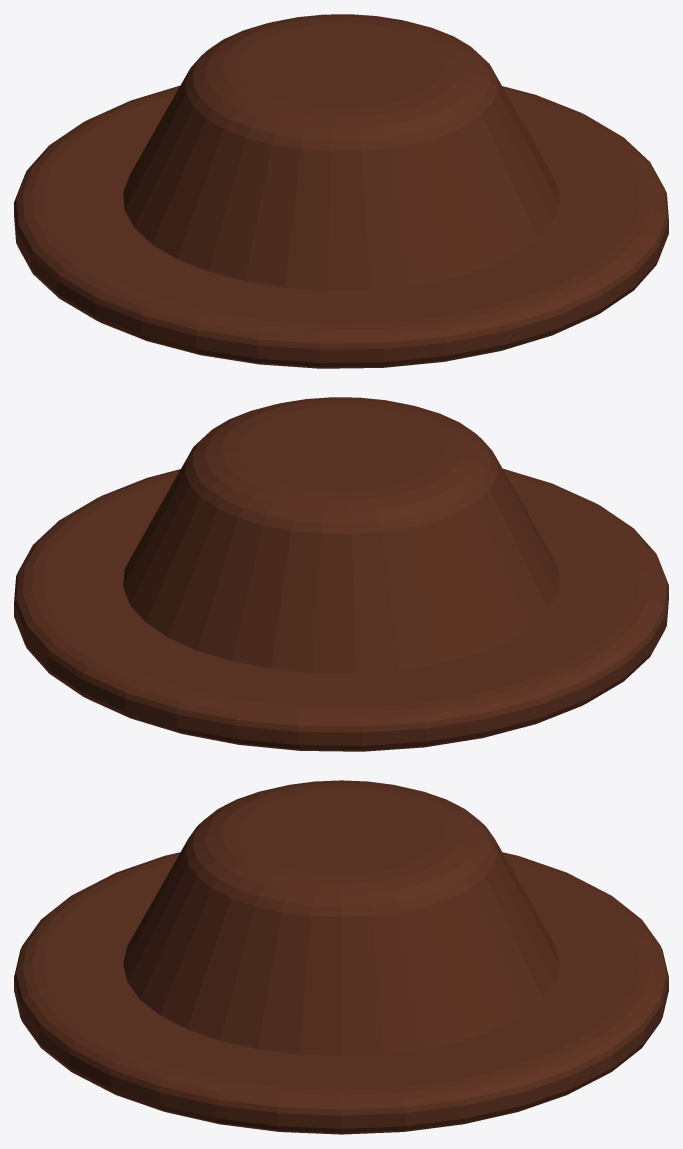
File: ImbiambaJombes.fbx
3 views of the same model, one above another, from view 1: azimuth 30°, elevation 25°; view 2: azimuth 150°, elevation 25°; view 3: azimuth 270°, elevation 25° (orthographic).
Visible parts, largest first — view 1: ImbimbaJombes; view 2: ImbimbaJombes; view 3: ImbimbaJombes.
Part boxes in pixels (x1,y1,x2,y2): ImbimbaJombes: (14, 14, 668, 368); ImbimbaJombes: (14, 397, 668, 751); ImbimbaJombes: (14, 780, 668, 1134).
Size of the model in its own units: 225 by 65 by 225.
